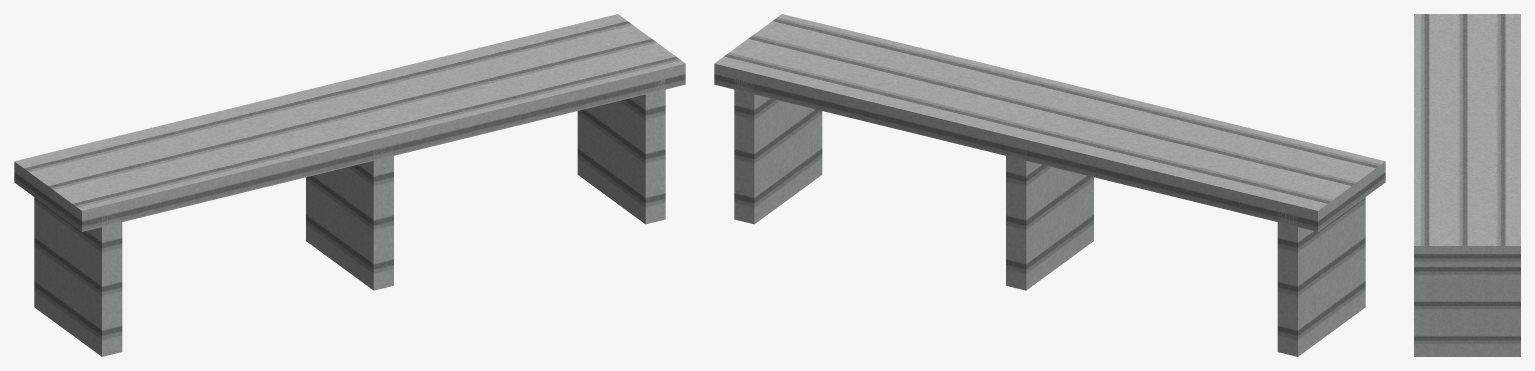
Rendered from locker_room_bench.glb.
3 views of the same model, side by side, from view 1: azimuth 30°, elevation 25°; view 2: azimuth 150°, elevation 25°; view 3: azimuth 270°, elevation 25° (orthographic). The views are drawn at different scales.
Visible parts, largest first — view 1: locker_room_bench-col; view 2: locker_room_bench-col; view 3: locker_room_bench-col.
Boxes of the visible parts, x1,y1,x2,y2 form: locker_room_bench-col: (14,14,685,356); locker_room_bench-col: (714,14,1385,356); locker_room_bench-col: (1414,14,1520,356).
Size of the model in its own units: 1.8 by 0.43 by 0.35.
Materials: 1 (1 with a texture image).
